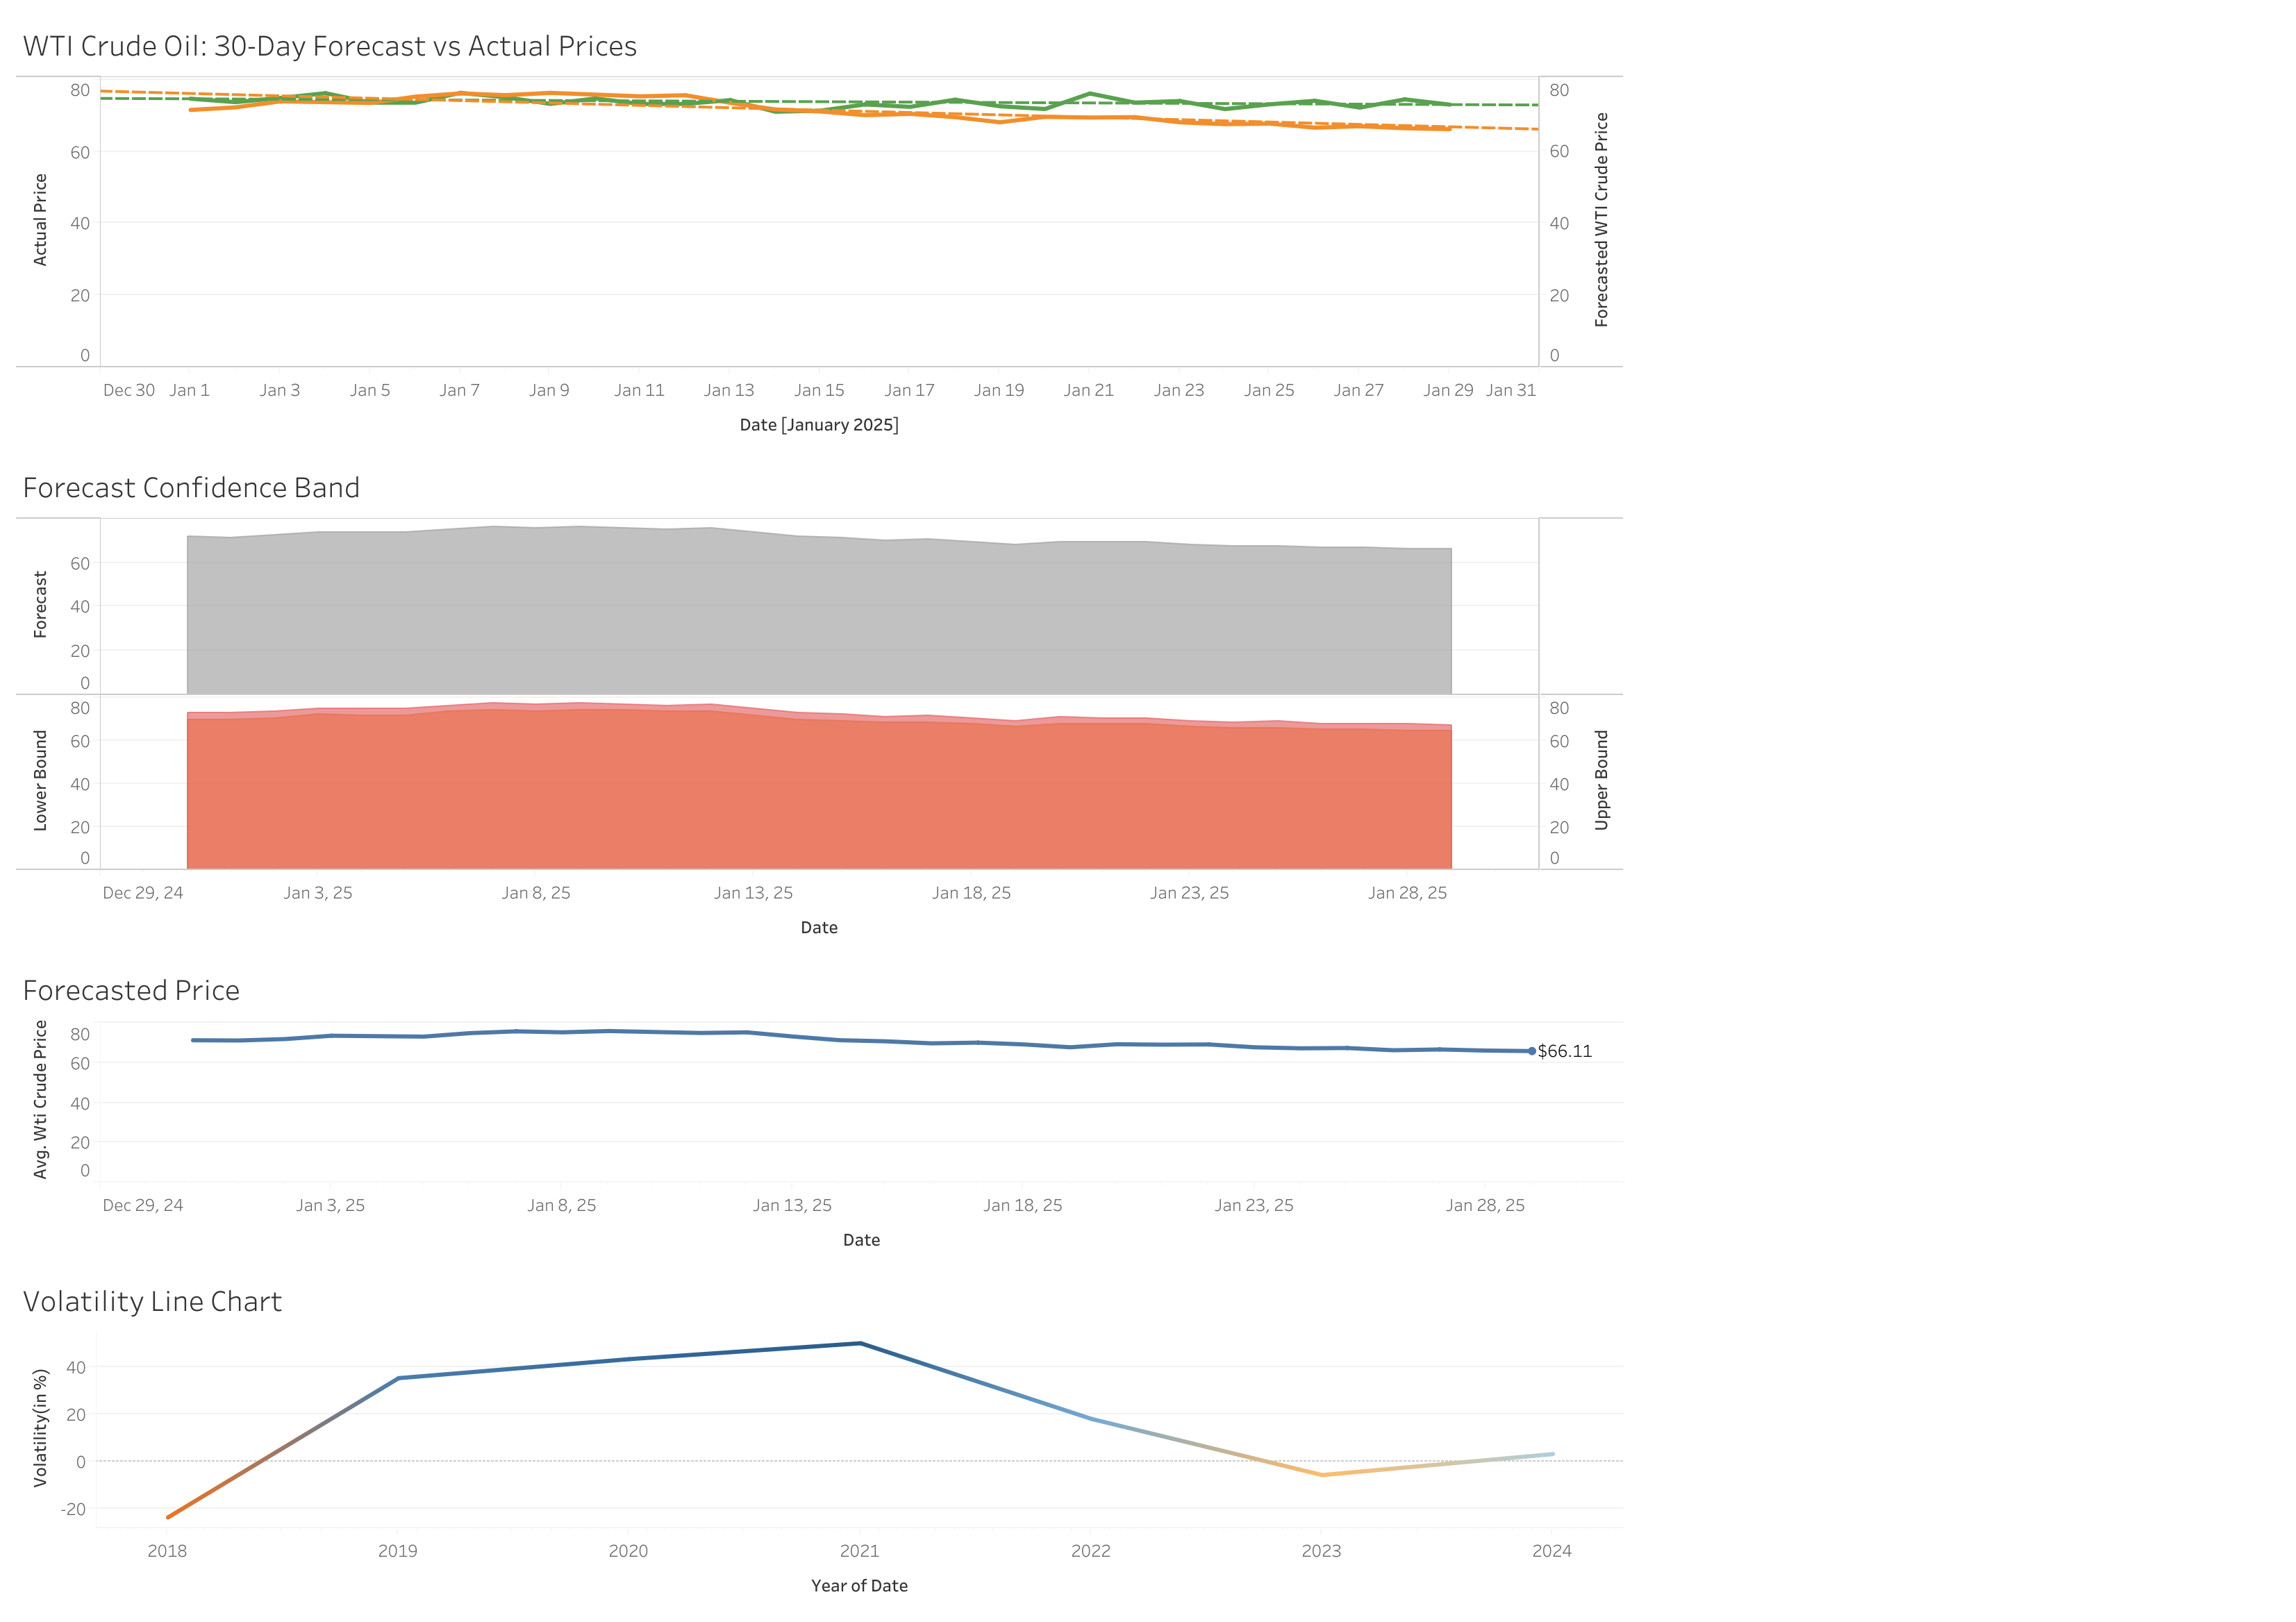

The dashboard page shown, as its layout file describes it:
{"tool":"tableau","page":{"name":"Dashboard 2","canvas":[1654,1169],"ordinal":1},"visuals":[{"type":"worksheet","title":"WTI Crude Oil: 30-Day Forecast vs Actual Prices","mark":"Automatic","rows":["Actual Price","Forecasted_WTI_Crude_Price"],"cols":["Date"],"box":[8,8,1165,318]},{"type":"legend","title":"WTI Crude Oil: 30-Day Forecast vs Actual Prices","param":"[federated.1g02412121eh2j10pe1qc1pyrkj9].[none:Type:nk]","box":[1173,8,473,22]},{"type":"legend","title":"Forecast Confidence Band","param":"[federated.1o0bw6e1uyhpw21h1zltu0ab6155].[none:Type:nk]","box":[1173,30,473,22]},{"type":"worksheet","title":"Forecast Confidence Band","mark":"Area","rows":["Forecast","Lower_Bound","Upper_Bound"],"cols":["Date"],"box":[8,326,1165,362]},{"type":"worksheet","title":"Forecasted Price","mark":"Line","rows":["wti_crude_price"],"cols":["Date"],"box":[8,688,1165,224]},{"type":"worksheet","title":"Volatility Line Chart","mark":"Automatic","rows":["Volatility"],"cols":["Date"],"box":[8,912,1165,249]}]}

Visuals, with their boxes in screenshot pixels (x1, y1, x2, y2), scaled from the page's 1654x1169 canvas onto the 2296x1622 screenshot:
"WTI Crude Oil: 30-Day Forecast vs Actual Prices" worksheet: crop(11, 11, 1629, 452)
"WTI Crude Oil: 30-Day Forecast vs Actual Prices" legend: crop(1629, 11, 2285, 42)
"Forecast Confidence Band" legend: crop(1629, 42, 2285, 72)
"Forecast Confidence Band" worksheet (Area marks): crop(11, 452, 1629, 955)
"Forecasted Price" worksheet (Line marks): crop(11, 955, 1629, 1265)
"Volatility Line Chart" worksheet: crop(11, 1265, 1629, 1611)
